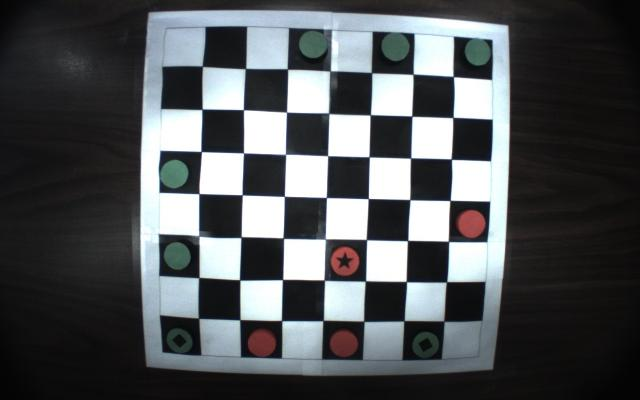G: (162, 325, 196, 356), (410, 328, 442, 360)
R: (327, 243, 361, 278)
g: (157, 156, 192, 191), (296, 27, 330, 63), (378, 30, 413, 64), (160, 239, 192, 273), (462, 34, 493, 69)
r: (455, 207, 487, 241), (326, 328, 360, 359), (244, 329, 280, 358)
